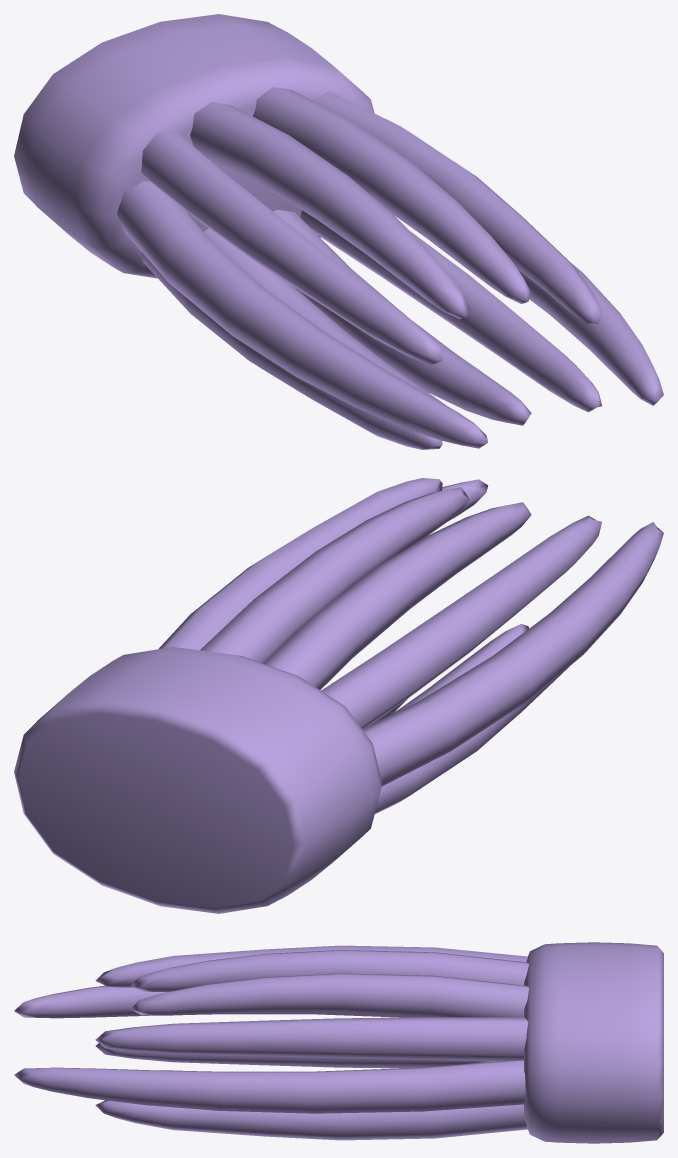
Rendered from Squid_3_Half_2.fbx.
The picture shows the model from 3 angles, top to bottom: view 1: azimuth 30°, elevation 25°; view 2: azimuth 150°, elevation 25°; view 3: azimuth 270°, elevation 25°; orthographic projection. The views are drawn at different scales.
Visible parts, largest first — view 1: Squid_3_Half_2; view 2: Squid_3_Half_2; view 3: Squid_3_Half_2.
Part boxes in pixels (box(x1,y1,x2,y2)): Squid_3_Half_2: box(14, 14, 663, 449); Squid_3_Half_2: box(14, 478, 663, 913); Squid_3_Half_2: box(14, 942, 663, 1143).
Size of the model in its own units: 9.9 by 6.28 by 23.14.
